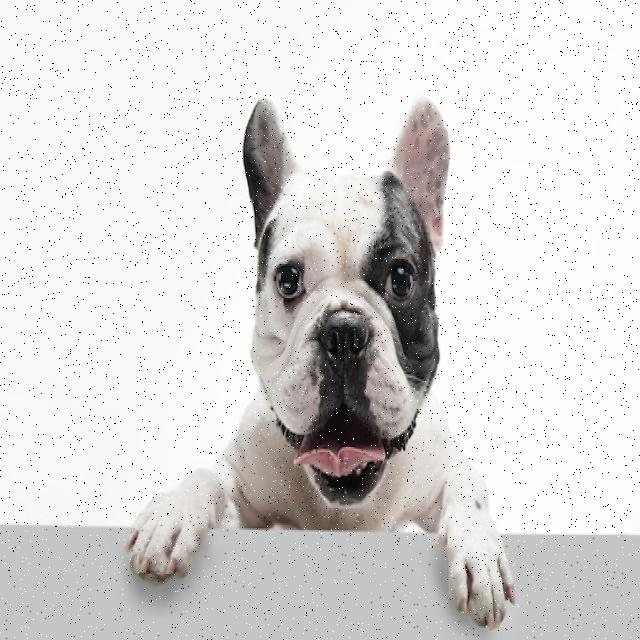Dog: (126, 95, 515, 629)
